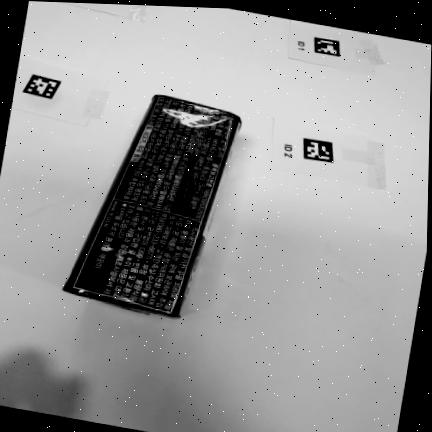cracker_ace: (63, 95, 241, 317)
